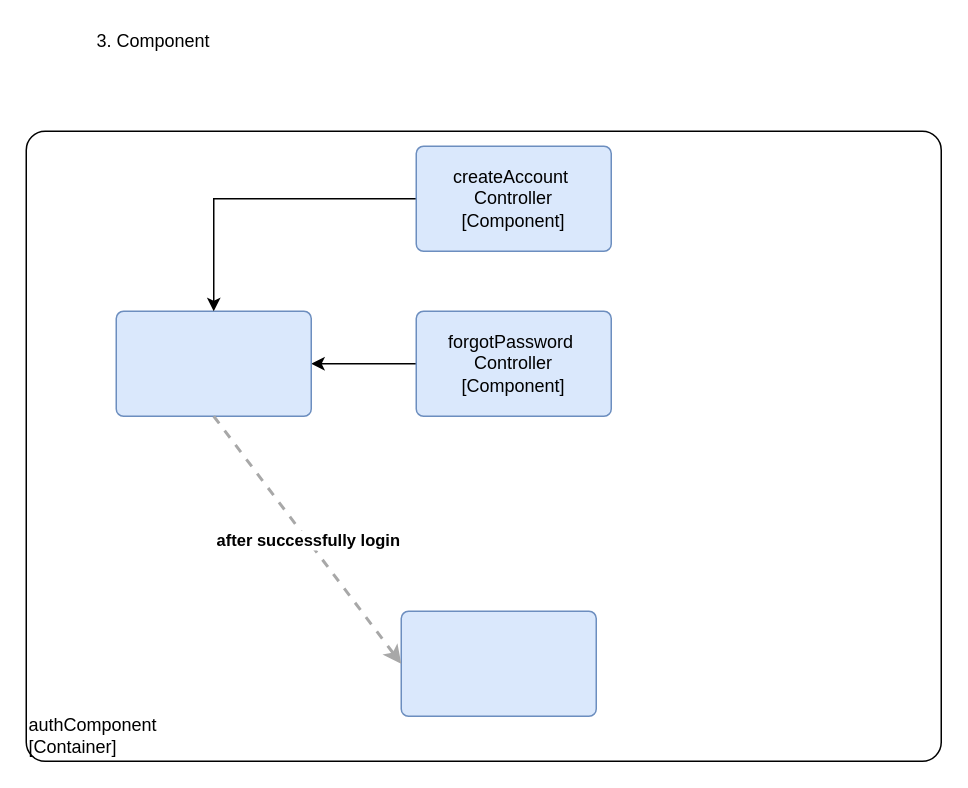
The diagram is 968 pixels wide and 788 high, and some of its shapes have lost their labels. Each missing label, with the centre of its shape:
loginComponent Controller [Component]: point 213,363
retrieveStatistics Controller [Component ]: point 498,663
